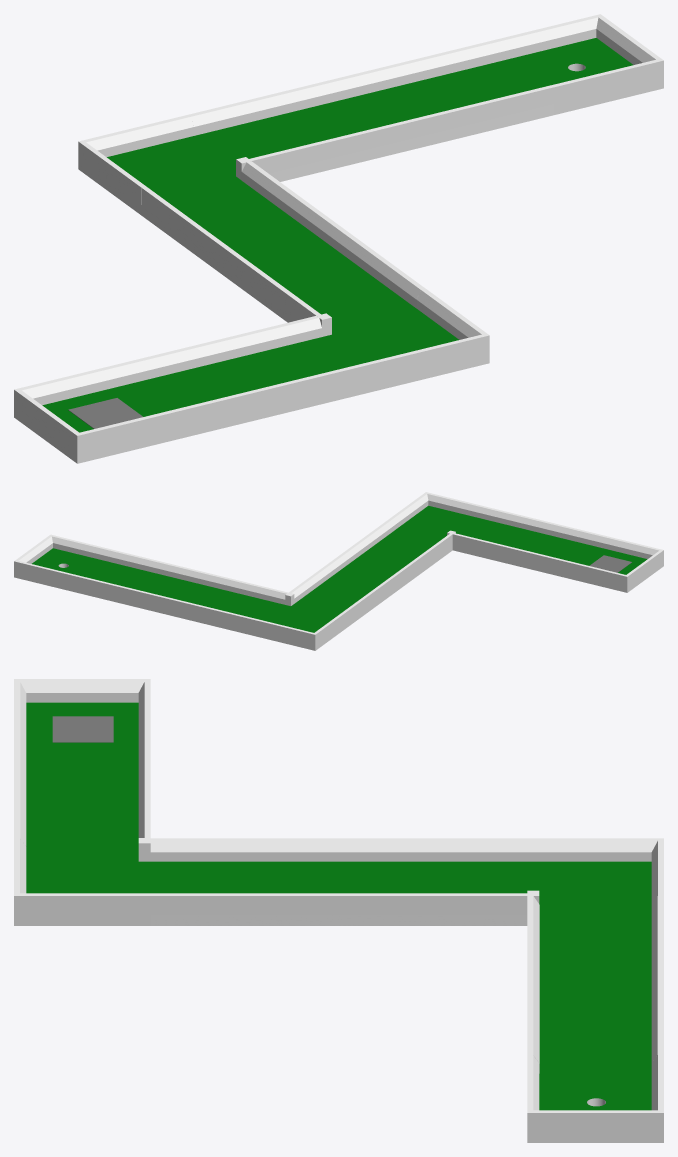
The model's file is Level3Model.obj.
3 renders of one model, top to bottom at view 1: azimuth 30°, elevation 25°; view 2: azimuth 150°, elevation 25°; view 3: azimuth 270°, elevation 25°, orthographic. The views are drawn at different scales.
Visible parts, largest first — view 1: pCube315; view 2: pCube315; view 3: pCube315.
Part boxes in pixels (left/top/right/bottom): pCube315: left=14, top=14, right=663, bottom=463; pCube315: left=14, top=492, right=663, bottom=650; pCube315: left=14, top=679, right=663, bottom=1142.
Bounding box in the file's own units: 16.82 × 0.5445 × 10.66.
Materials: 3 (2 with a texture image).
